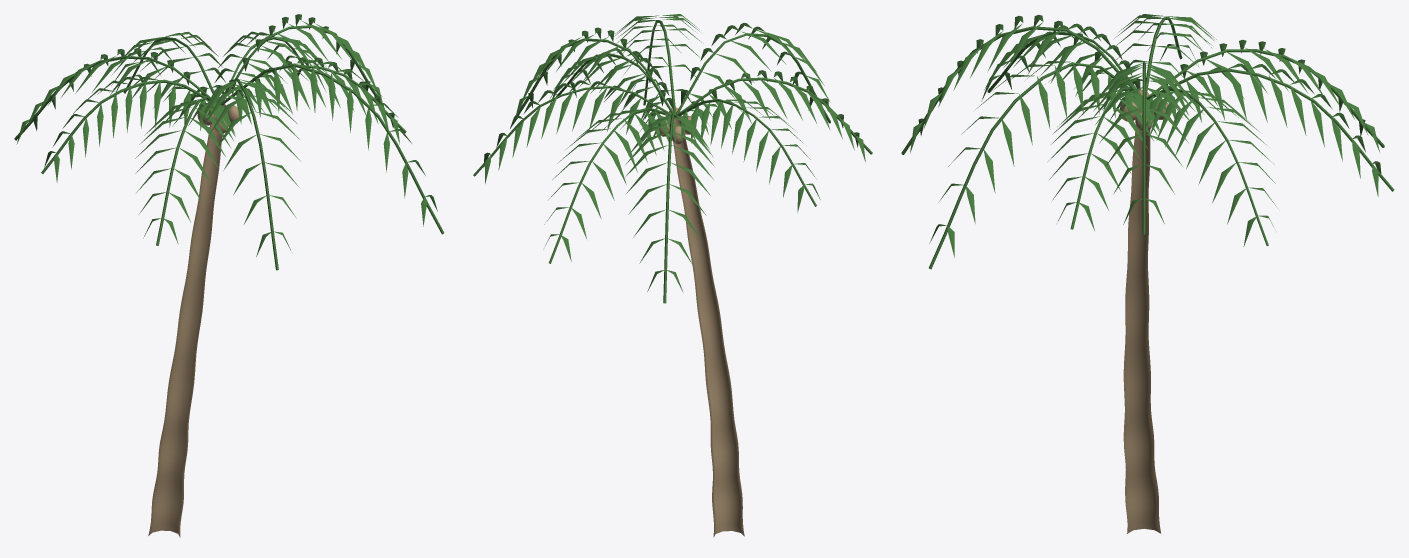
The model's file is palm-botanical-low.glb.
3 views of the same model, side by side, from view 1: azimuth 30°, elevation 25°; view 2: azimuth 150°, elevation 25°; view 3: azimuth 270°, elevation 25° (orthographic). The views are drawn at different scales.
Parts seen in each view (by area): view 1: PinnateLeaflets, GrowthRingTrunk, FrondRachis; view 2: PinnateLeaflets, GrowthRingTrunk, FrondRachis; view 3: PinnateLeaflets, GrowthRingTrunk, FrondRachis.
Boxes of the visible parts, box(x1,y1,x2,y2) form: PinnateLeaflets: box(16, 14, 437, 256); GrowthRingTrunk: box(148, 104, 225, 537); FrondRachis: box(14, 25, 444, 270); PinnateLeaflets: box(483, 14, 865, 292); GrowthRingTrunk: box(673, 116, 744, 537); FrondRachis: box(473, 20, 872, 303); PinnateLeaflets: box(910, 14, 1381, 257); GrowthRingTrunk: box(1123, 108, 1161, 533); FrondRachis: box(901, 16, 1394, 269).
Size of the model in its own units: 6.79 by 9.61 by 7.97.
